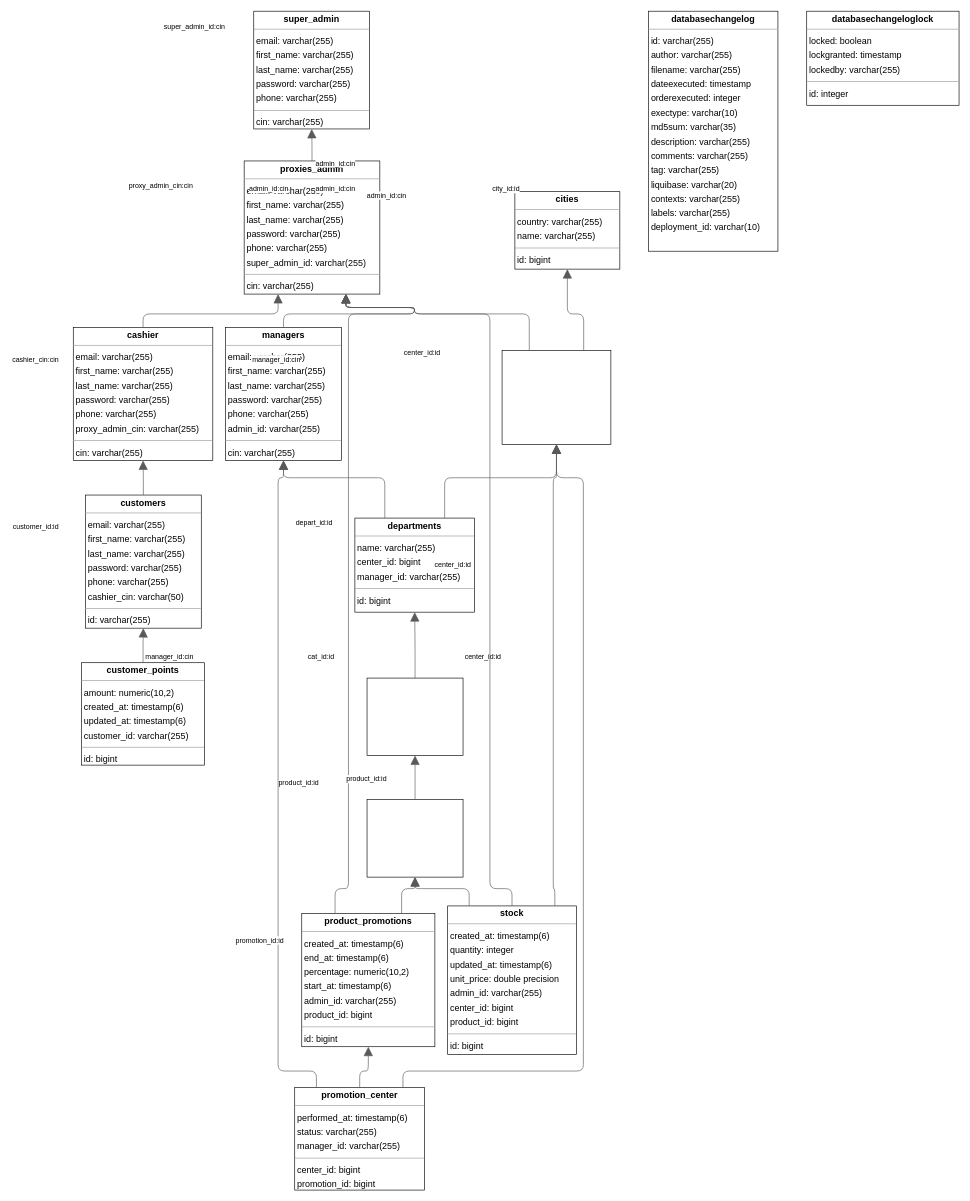
The diagram is 970 pixels wide and 1201 high, and some of its shapes have lost their labels. The shapes that lost their labels are listed below. From the top down, each one's centre as x and y in pixels, then its label:
the point at 556,397: centers name: varchar(255) admin_id: varchar(255) city_id: bigint id: bigint
the point at 414,716: categories name: varchar(255) depart_id: bigint id: bigint
the point at 414,838: products name: varchar(255) cat_id: bigint id: bigint
